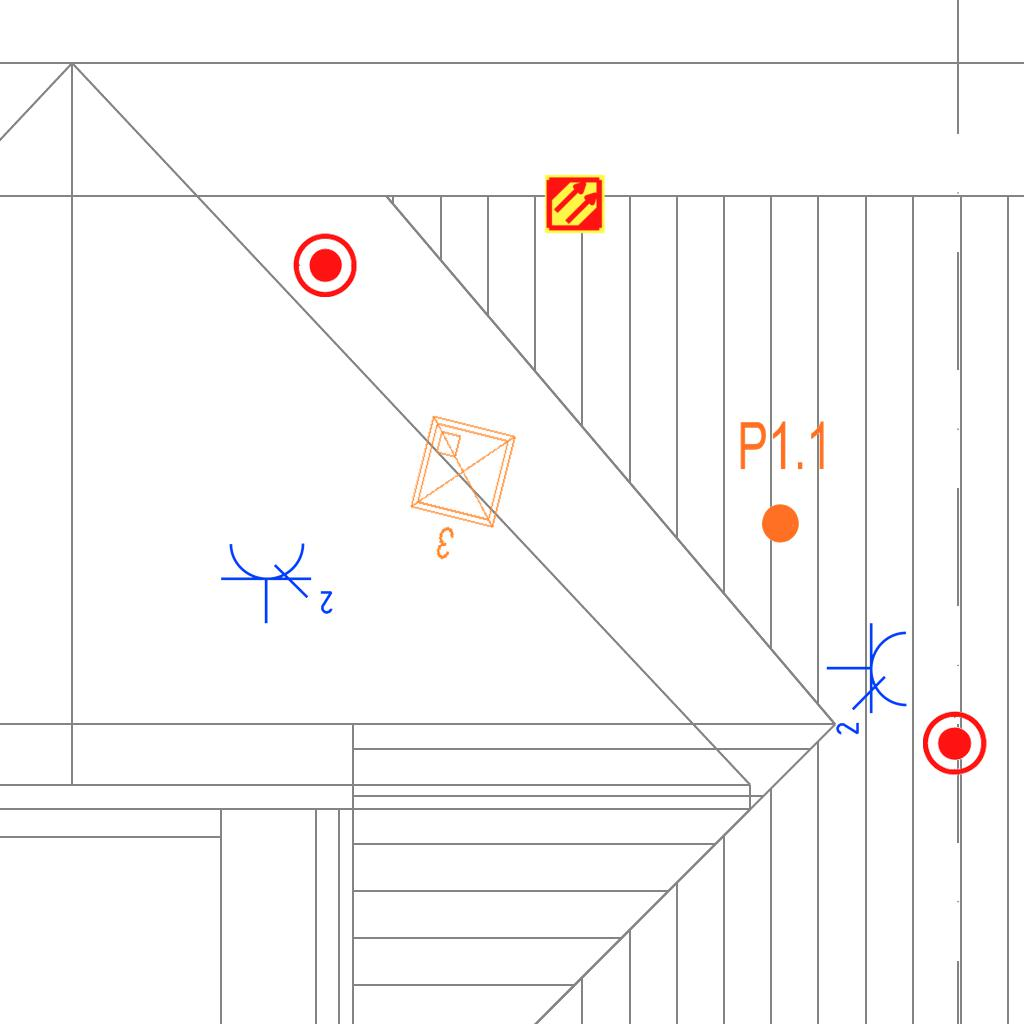ASR_Ansaugrauchmelder: (544, 173, 606, 235)
Downlight_LED_Einbauleuchten_Flur_2: (737, 418, 830, 546)
Einbaudownlights_LED_Konferenzraeume: (391, 406, 529, 578)
Schukosteckdose_mehrfach: (825, 621, 913, 742), (219, 537, 340, 625)
Taster: (293, 231, 359, 297), (923, 711, 989, 777)
